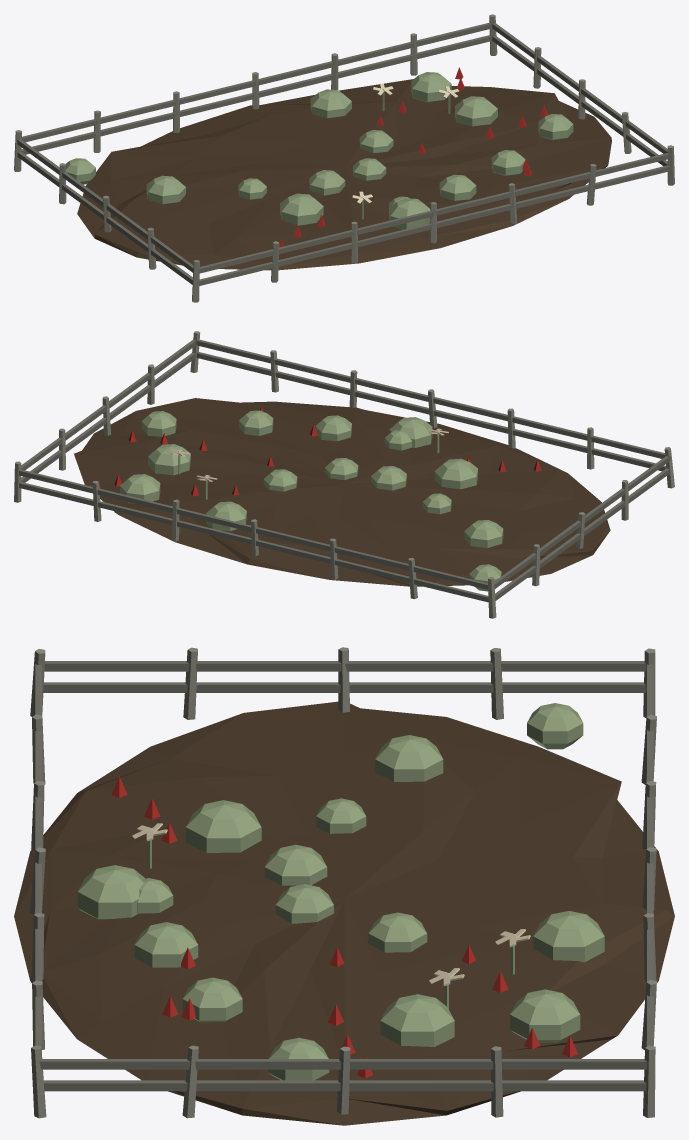
The model's file is greyfen-herb-bed.glb.
3 views of the same model, one above another, from view 1: azimuth 30°, elevation 25°; view 2: azimuth 150°, elevation 25°; view 3: azimuth 270°, elevation 25° (orthographic). The views are drawn at different scales.
Visible parts, largest first — view 1: Body_Second, Body_WoodDark, Body_Plant, Body_Wood, Body_Berry, Body_Paper; view 2: Body_Second, Body_WoodDark, Body_Plant, Body_Wood, Body_Berry; view 3: Body_Second, Body_Plant, Body_WoodDark, Body_Wood, Body_Berry, Body_Paper.
Boxes of the visible parts, x1,y1,x2,y2 form: Body_Second: (77, 79, 611, 270); Body_WoodDark: (17, 22, 670, 285); Body_Plant: (66, 72, 573, 229); Body_Wood: (14, 14, 674, 302); Body_Berry: (279, 67, 547, 247); Body_Paper: (352, 83, 459, 203); Body_Second: (74, 398, 610, 586); Body_WoodDark: (19, 339, 670, 602); Body_Plant: (120, 410, 503, 591); Body_Wood: (14, 331, 674, 618); Body_Berry: (97, 406, 541, 495); Body_Second: (14, 701, 674, 1125); Body_Plant: (77, 703, 604, 1080); Body_WoodDark: (35, 661, 653, 1091); Body_Wood: (30, 647, 656, 1118); Body_Berry: (111, 776, 577, 1078); Body_Paper: (132, 823, 530, 986).
Bounding box in the file's own units: 6 × 0.5 × 4.
